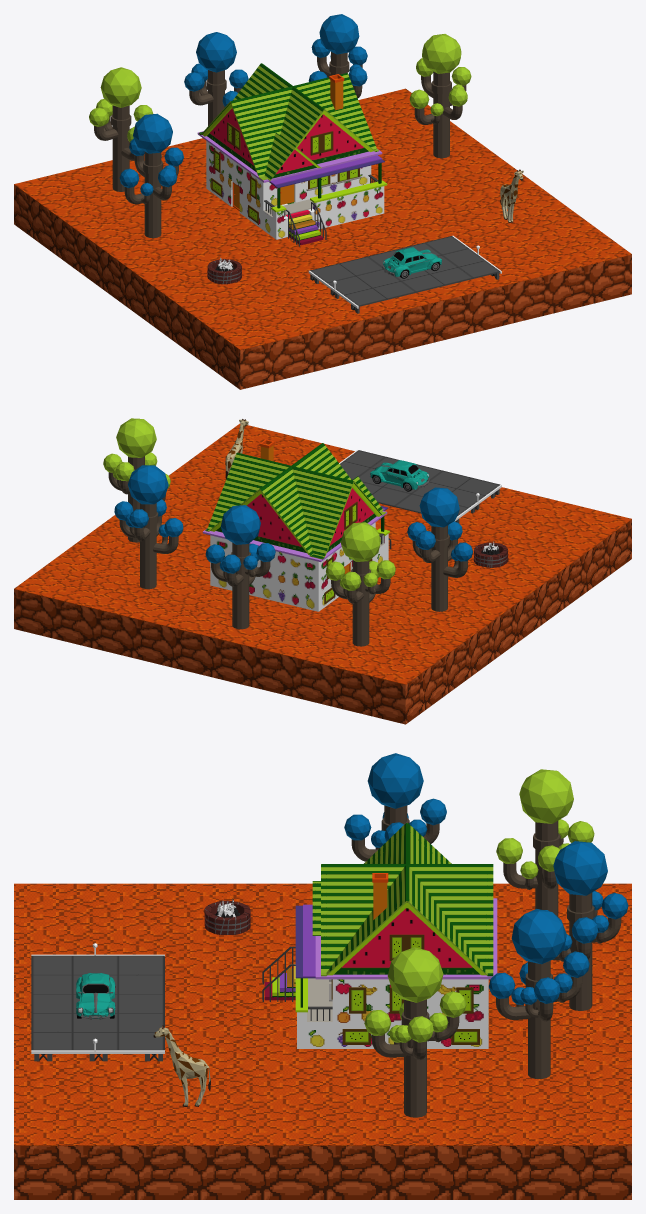
3 renders of one model, top to bottom at view 1: azimuth 30°, elevation 25°; view 2: azimuth 150°, elevation 25°; view 3: azimuth 270°, elevation 25°, orthographic. The views are drawn at different scales.
Parts seen in each view (by area): view 1: Cube.001, Cube.1063, VEHICLES_VOLKSWAGEN, OBJRANDOM_CAMPFIRE, ANIMAL_JIRAFA; view 2: Cube.001, Cube.1063, VEHICLES_VOLKSWAGEN, OBJRANDOM_CAMPFIRE, ANIMAL_JIRAFA; view 3: Cube.001, Cube.1063, VEHICLES_VOLKSWAGEN, OBJRANDOM_CAMPFIRE, ANIMAL_JIRAFA.
Boxes of the visible parts, bbox=[...] form: Cube.001: bbox=[14, 14, 631, 389]; Cube.1063: bbox=[197, 63, 387, 246]; VEHICLES_VOLKSWAGEN: bbox=[382, 247, 442, 278]; OBJRANDOM_CAMPFIRE: bbox=[207, 257, 241, 284]; ANIMAL_JIRAFA: bbox=[500, 169, 523, 222]; Cube.001: bbox=[14, 418, 631, 724]; Cube.1063: bbox=[202, 439, 391, 611]; VEHICLES_VOLKSWAGEN: bbox=[370, 460, 429, 491]; OBJRANDOM_CAMPFIRE: bbox=[473, 541, 508, 567]; ANIMAL_JIRAFA: bbox=[225, 419, 248, 478]; Cube.001: bbox=[14, 753, 631, 1199]; Cube.1063: bbox=[262, 823, 497, 1048]; VEHICLES_VOLKSWAGEN: bbox=[76, 973, 115, 1019]; OBJRANDOM_CAMPFIRE: bbox=[204, 896, 250, 934]; ANIMAL_JIRAFA: bbox=[153, 1025, 210, 1106].
Bounding box in the file's own units: 4000 × 1672 × 4000.
35 materials, 6 textured.
